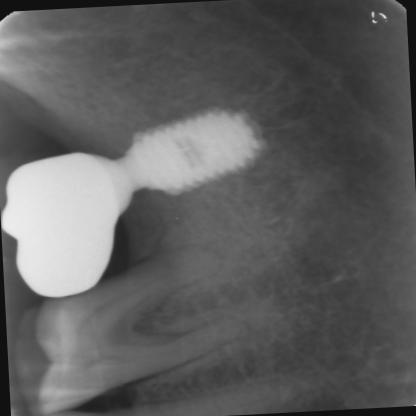Bicon: (116, 96, 267, 208)
